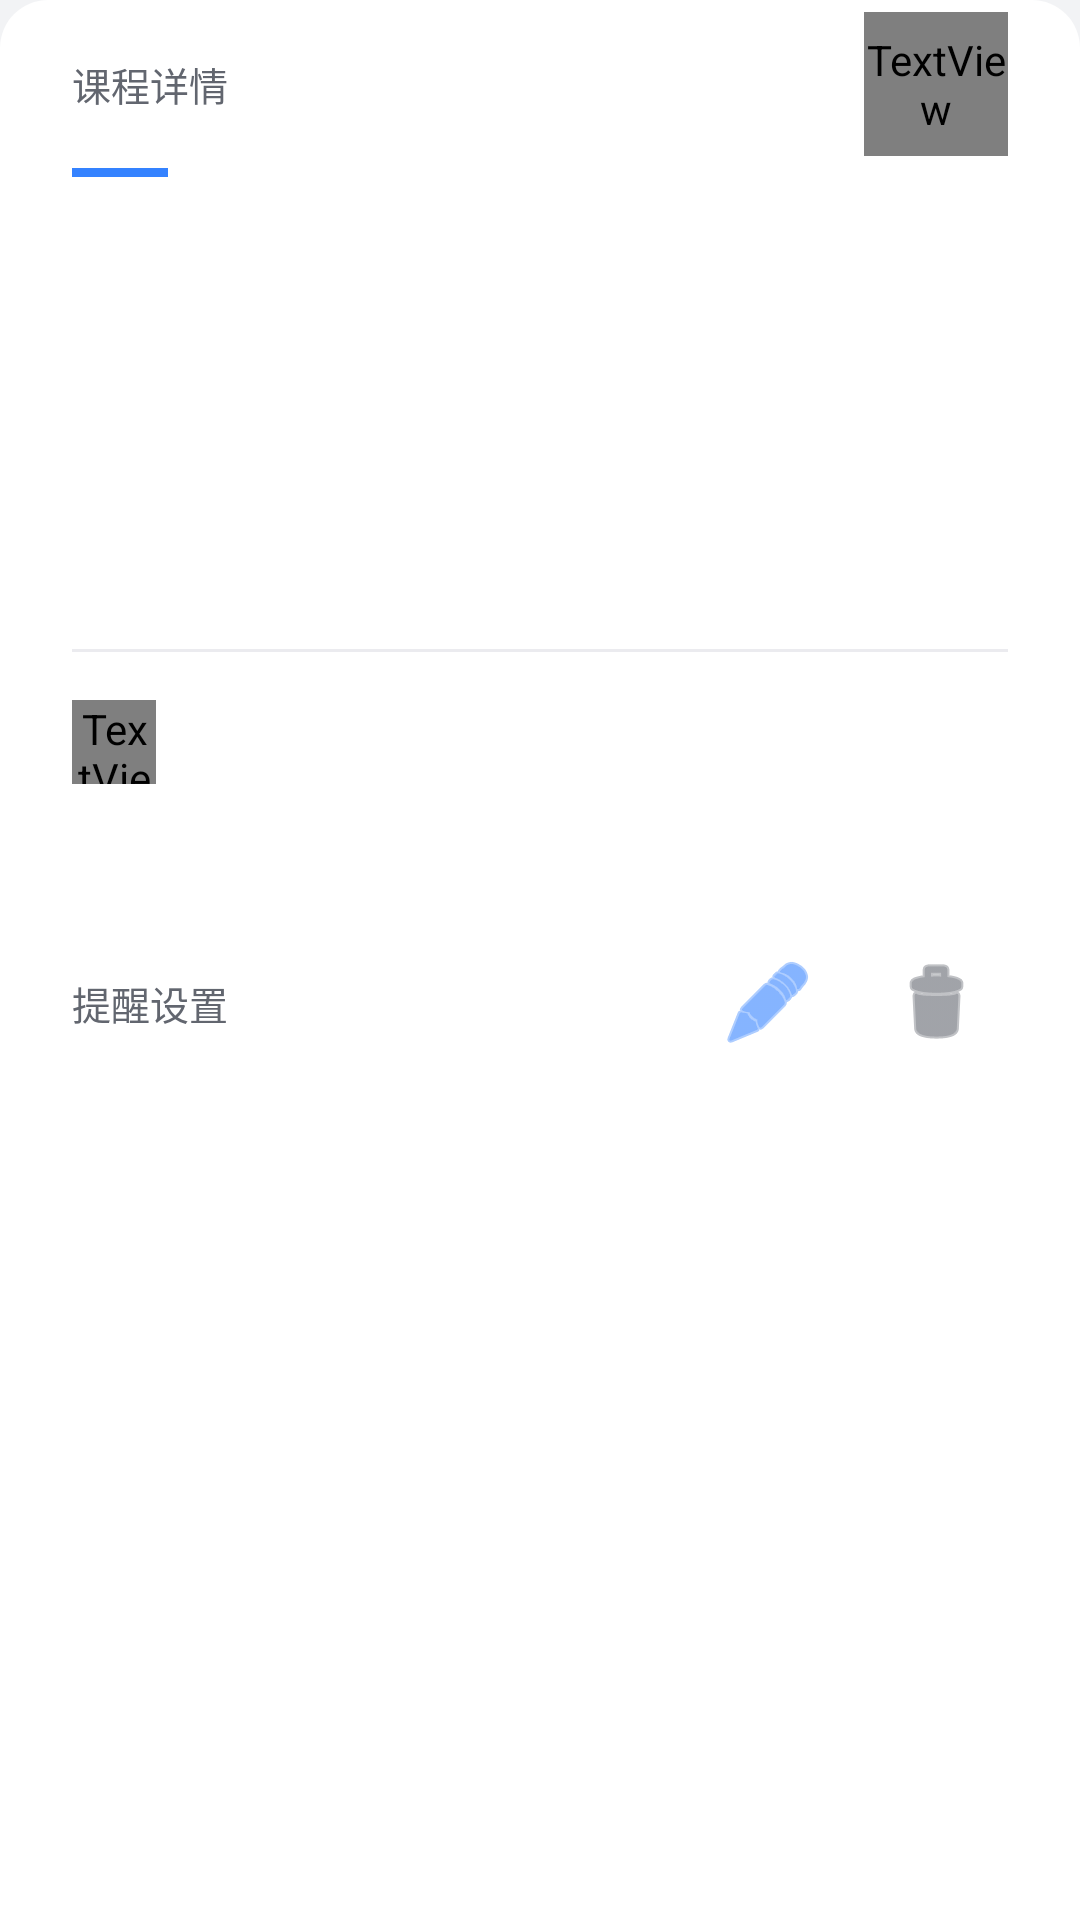

Screen size 1080 × 1920. Icon name, then its center in pixels as (x=x, y=y):
删除课程: (x=936, y=1001)
编辑课程: (x=767, y=1002)
